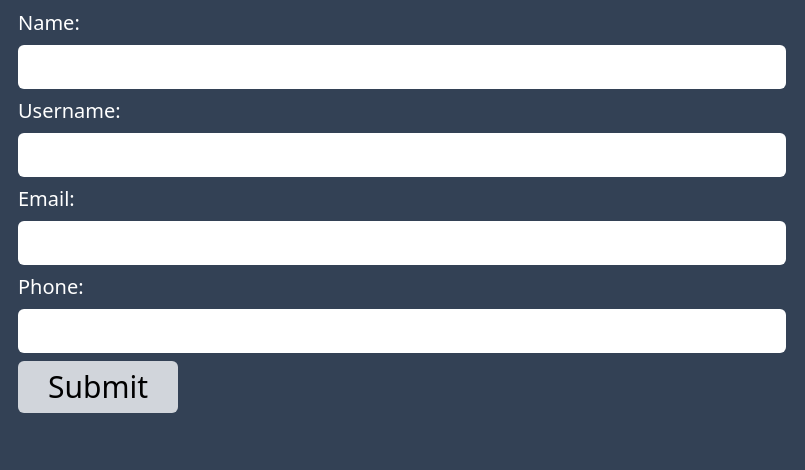
Form validation › Email field empty check
In the field named "name": point(402, 67) [18,45,786,89], type "validName"
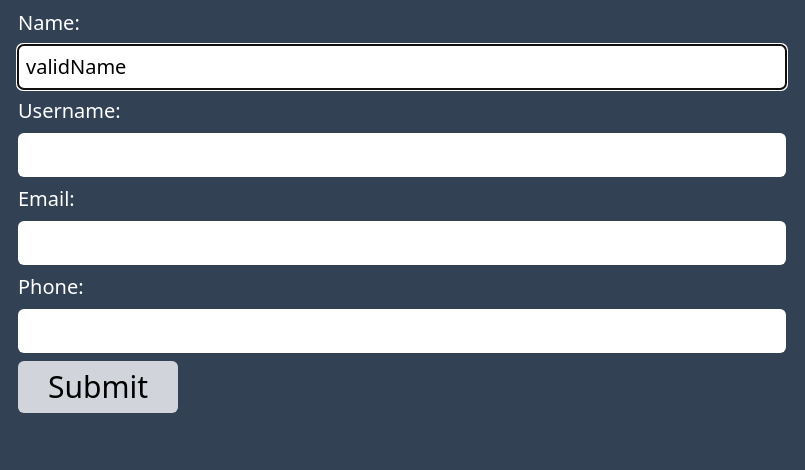
In the field named "username": point(402, 155) [18,133,786,177], type "validUsername"
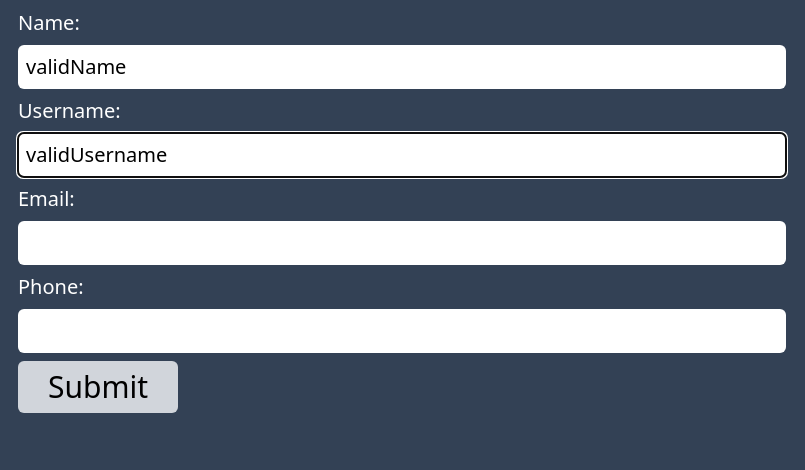
In the field named "phone": point(402, 331) [18,309,786,353], type "01234567891"
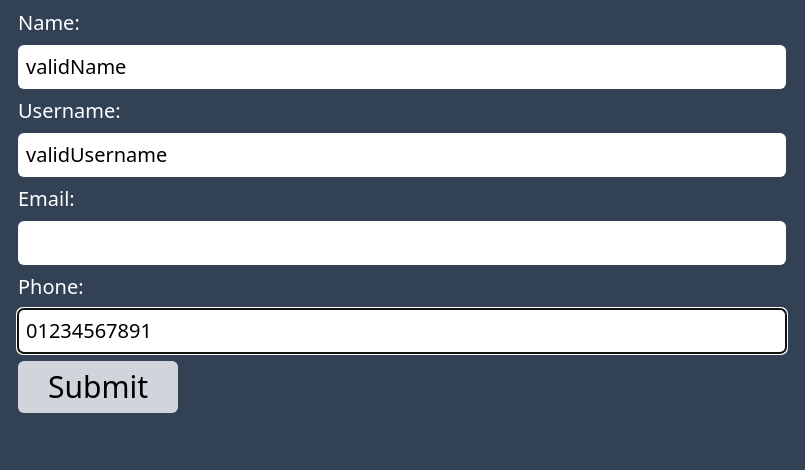
Click the submit button: point(98, 387) [18,361,178,413]
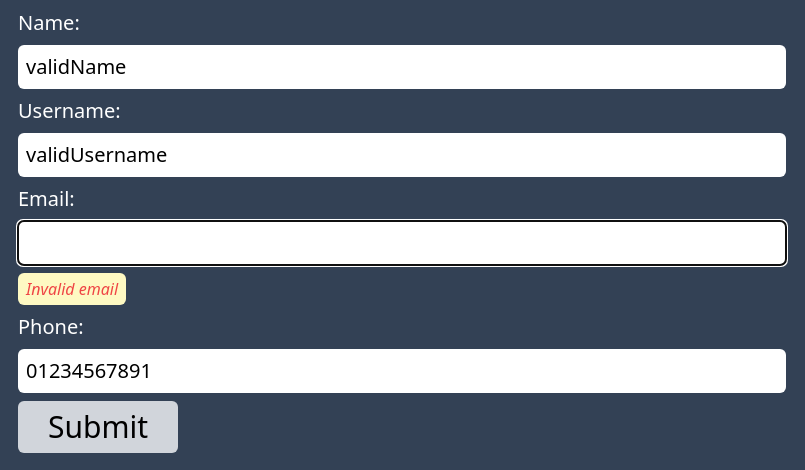
Check: the text with test id "emailError" reads "Invalid email", box [26,278,118,300]
